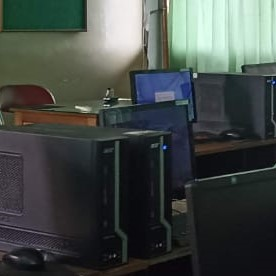monitor: (0, 122, 173, 267), (192, 72, 274, 140), (129, 68, 197, 123)
